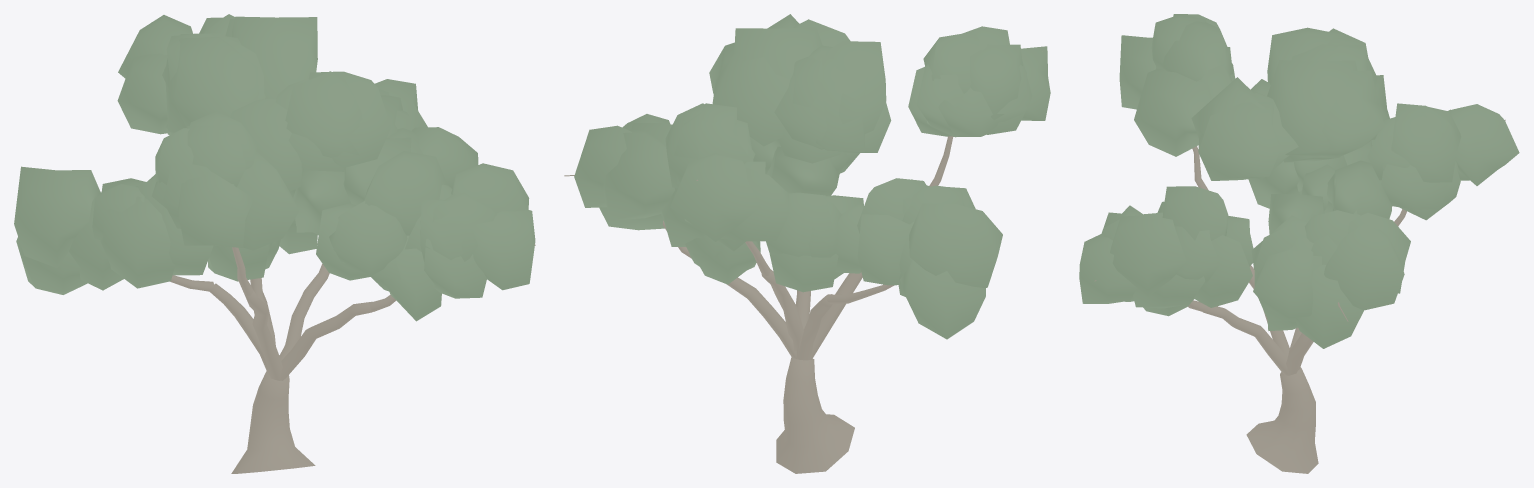
The model's file is Blender_BlueOak_1.glb.
3 renders of one model, left to right at view 1: azimuth 30°, elevation 25°; view 2: azimuth 150°, elevation 25°; view 3: azimuth 270°, elevation 25°, orthographic. The views are drawn at different scales.
Parts seen in each view (by area): view 1: Blender_BlueOak_1; view 2: Blender_BlueOak_1; view 3: Blender_BlueOak_1.
Boxes of the visible parts, bbox=[...] form: Blender_BlueOak_1: bbox=[14, 14, 535, 473]; Blender_BlueOak_1: bbox=[564, 14, 1050, 473]; Blender_BlueOak_1: bbox=[1079, 14, 1519, 473].
Size of the model in its own units: 9.33 by 9.02 by 8.74.
